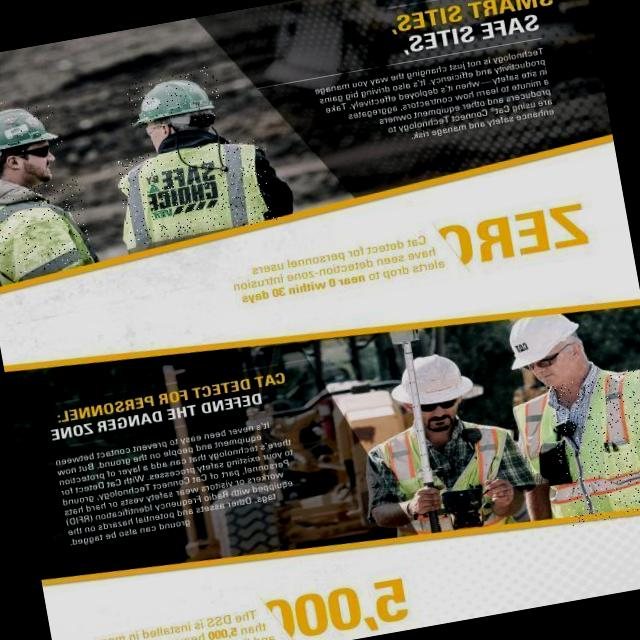helmet: (123, 65, 223, 132), (501, 311, 582, 368), (0, 92, 62, 162)
no-helmet: (372, 348, 498, 451)
vest: (368, 415, 526, 553), (114, 134, 278, 246), (545, 365, 640, 526), (0, 177, 92, 279)
